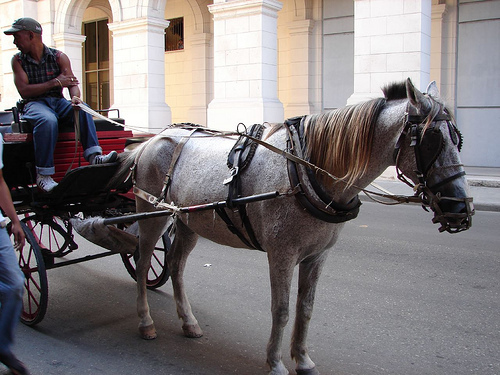horse: (107, 77, 475, 375)
